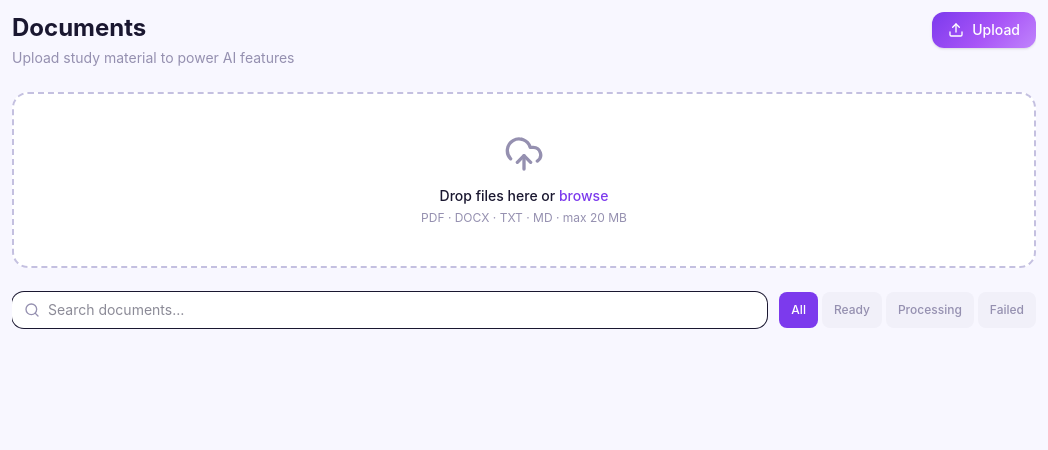
DocumentsPage › filters documents by search term
The width and height of the screenshot is (1048, 450).
Type "textbook" into the field with placeholder "Search documents…" at coordinates (390, 310), box x1=12 y1=292 x2=767 y2=328
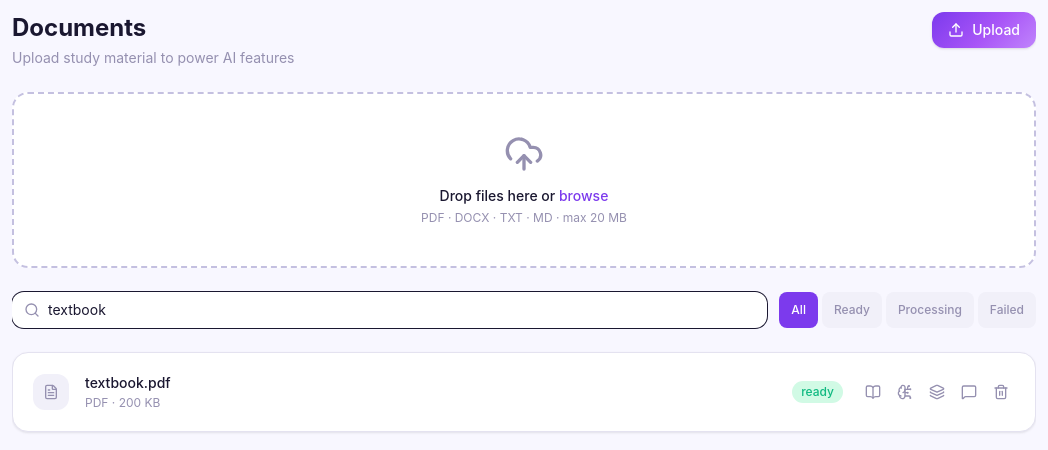
Result: the text "textbook.pdf" is shown at x1=85 y1=374 x2=171 y2=391
